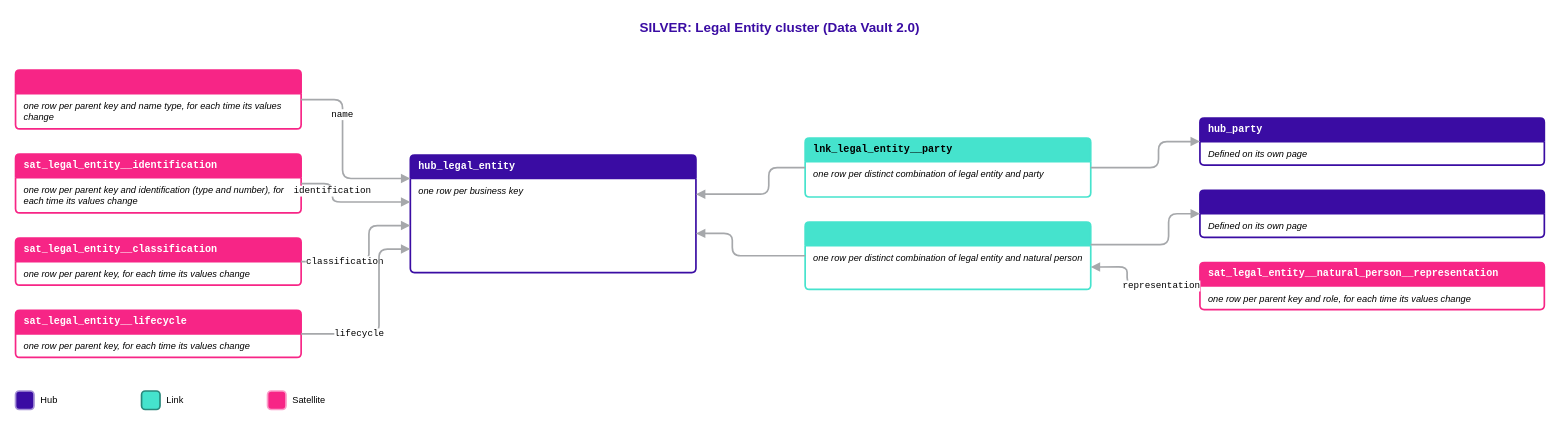
Some shapes in this 1559 by 424 pixel diagram are drawn without their labels. The box of each missing label's shape, as (x1, y1, x2, y2) in pixels:
hub_natural_person: (1199, 189, 1545, 238)
lnk_legal_entity__natural_person: (804, 221, 1091, 290)
sat_legal_entity__name: (14, 69, 302, 129)
